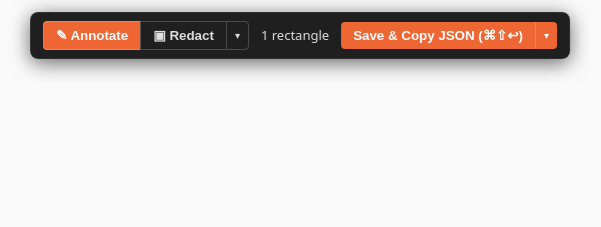
Test: Toolbar › opens dropdown when chevron is clicked
The image size is (601, 227).
Step 1. Click the button with test id "toolbar-chevron" → (546, 36), box [536, 22, 557, 49]
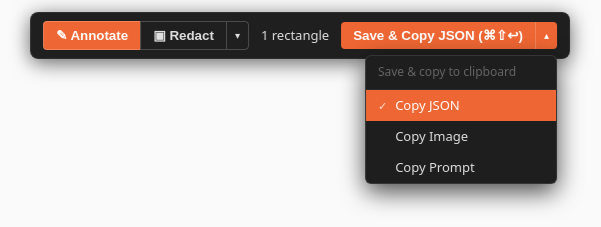
Check: the element with test id "toolbar-dropdown" is shown, box [365, 55, 557, 184]
